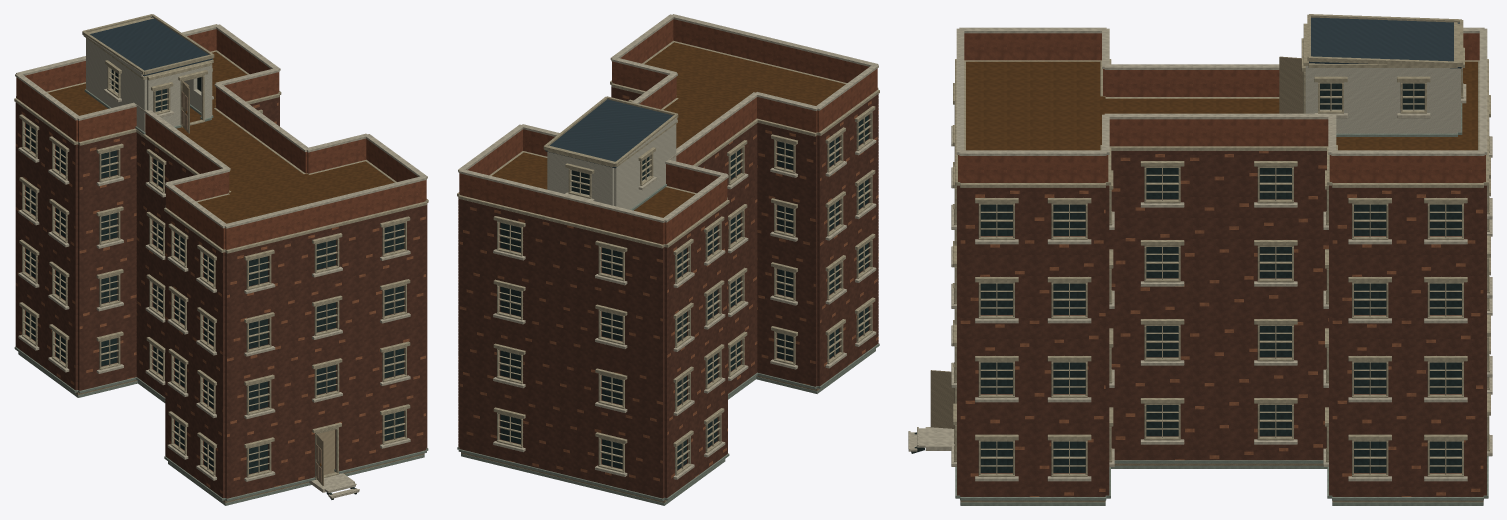
3 renders of one model, left to right at view 1: azimuth 30°, elevation 25°; view 2: azimuth 150°, elevation 25°; view 3: azimuth 270°, elevation 25°, orthographic. The views are drawn at different scales.
Parts seen in each view (by area): view 1: A010-14_02_Masonry_Facing, A010-14_01_Wall_Shell, A010-14_14_Parapets, A010-14_03_Window_Door_Frames, A010-14_04_Architectural_Trim, A010-14_11_Roof_Guarded_Dumbbell, A010-14_06_Glazing, A010-14_14_Parapet_Caps, A010-14_11_Roof_Rear_Stair_Cap, A010-14_07_Floors, A010-14_00_Foundation, A010-14_12_Roof_Edges; view 2: A010-14_02_Masonry_Facing, A010-14_01_Wall_Shell, A010-14_14_Parapets, A010-14_04_Architectural_Trim, A010-14_03_Window_Door_Frames, A010-14_11_Roof_Guarded_Dumbbell, A010-14_06_Glazing, A010-14_14_Parapet_Caps, A010-14_11_Roof_Rear_Stair_Cap, A010-14_00_Foundation, A010-14_12_Roof_Edges, A010-14_07_Floors; view 3: A010-14_02_Masonry_Facing, A010-14_01_Wall_Shell, A010-14_04_Architectural_Trim, A010-14_06_Glazing, A010-14_14_Parapets, A010-14_03_Window_Door_Frames, A010-14_11_Roof_Guarded_Dumbbell, A010-14_14_Parapet_Caps, A010-14_11_Roof_Rear_Stair_Cap, A010-14_07_Floors, A010-14_00_Foundation, A010-14_12_Roof_Edges (+2 smaller).
Part boxes in pixels (left/top/right/bottom): A010-14_02_Masonry_Facing: left=15, top=97, right=425, bottom=498; A010-14_01_Wall_Shell: left=16, top=35, right=427, bottom=498; A010-14_14_Parapets: left=16, top=29, right=426, bottom=249; A010-14_03_Window_Door_Frames: left=21, top=66, right=407, bottom=479; A010-14_04_Architectural_Trim: left=14, top=17, right=428, bottom=501; A010-14_11_Roof_Guarded_Dumbbell: left=48, top=51, right=394, bottom=223; A010-14_06_Glazing: left=26, top=69, right=403, bottom=473; A010-14_14_Parapet_Caps: left=15, top=24, right=427, bottom=228; A010-14_11_Roof_Rear_Stair_Cap: left=84, top=17, right=212, bottom=76; A010-14_07_Floors: left=75, top=380, right=424, bottom=502; A010-14_00_Foundation: left=18, top=352, right=424, bottom=505; A010-14_12_Roof_Edges: left=82, top=14, right=214, bottom=74; A010-14_02_Masonry_Facing: left=458, top=87, right=878, bottom=498; A010-14_01_Wall_Shell: left=458, top=87, right=877, bottom=498; A010-14_14_Parapets: left=459, top=19, right=877, bottom=244; A010-14_04_Architectural_Trim: left=457, top=40, right=879, bottom=501; A010-14_03_Window_Door_Frames: left=496, top=111, right=872, bottom=475; A010-14_11_Roof_Guarded_Dumbbell: left=492, top=42, right=845, bottom=217; A010-14_06_Glazing: left=500, top=115, right=868, bottom=469; A010-14_14_Parapet_Caps: left=458, top=14, right=878, bottom=222; A010-14_11_Roof_Rear_Stair_Cap: left=545, top=99, right=673, bottom=168; A010-14_00_Foundation: left=461, top=348, right=875, bottom=505; A010-14_12_Roof_Edges: left=543, top=96, right=678, bottom=166; A010-14_07_Floors: left=461, top=375, right=819, bottom=502; A010-14_02_Masonry_Facing: left=960, top=151, right=1483, bottom=496; A010-14_01_Wall_Shell: left=957, top=66, right=1486, bottom=496; A010-14_04_Architectural_Trim: left=951, top=22, right=1492, bottom=500; A010-14_06_Glazing: left=980, top=83, right=1461, bottom=472; A010-14_14_Parapets: left=958, top=33, right=1485, bottom=182; A010-14_03_Window_Door_Frames: left=954, top=68, right=1489, bottom=476; A010-14_11_Roof_Guarded_Dumbbell: left=966, top=61, right=1477, bottom=150; A010-14_14_Parapet_Caps: left=956, top=27, right=1487, bottom=155; A010-14_11_Roof_Rear_Stair_Cap: left=1309, top=17, right=1461, bottom=68; A010-14_07_Floors: left=925, top=427, right=1483, bottom=502; A010-14_00_Foundation: left=960, top=465, right=1483, bottom=505; A010-14_12_Roof_Edges: left=1307, top=14, right=1463, bottom=66.
Bounding box in the file's own units: 10.62 × 15.39 × 20.1.
13 materials, 13 textured.
